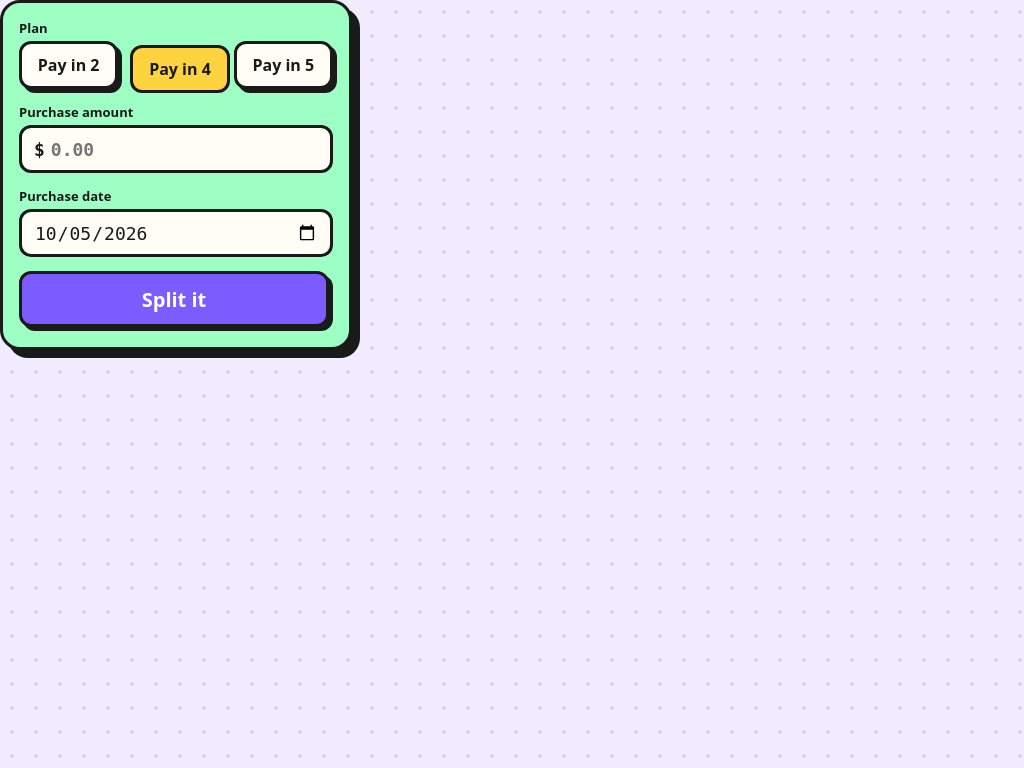
Test: PaymentPlanner › asks the backend for the plan and shows every installment
Type "99.99" into the field labelled "Purchase amount".
click(187, 149); type("99.99")  # box x1=45 y1=138 x2=330 y2=160
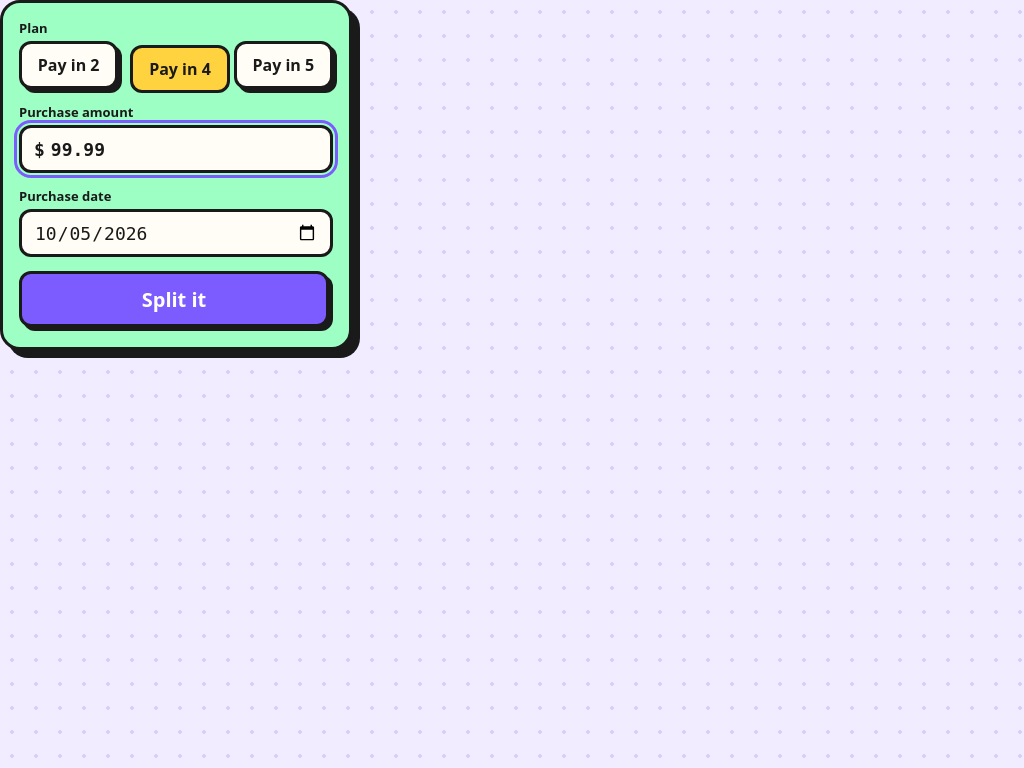
Click the button "Split it".
click(174, 299)  # box x1=19 y1=271 x2=329 y2=327
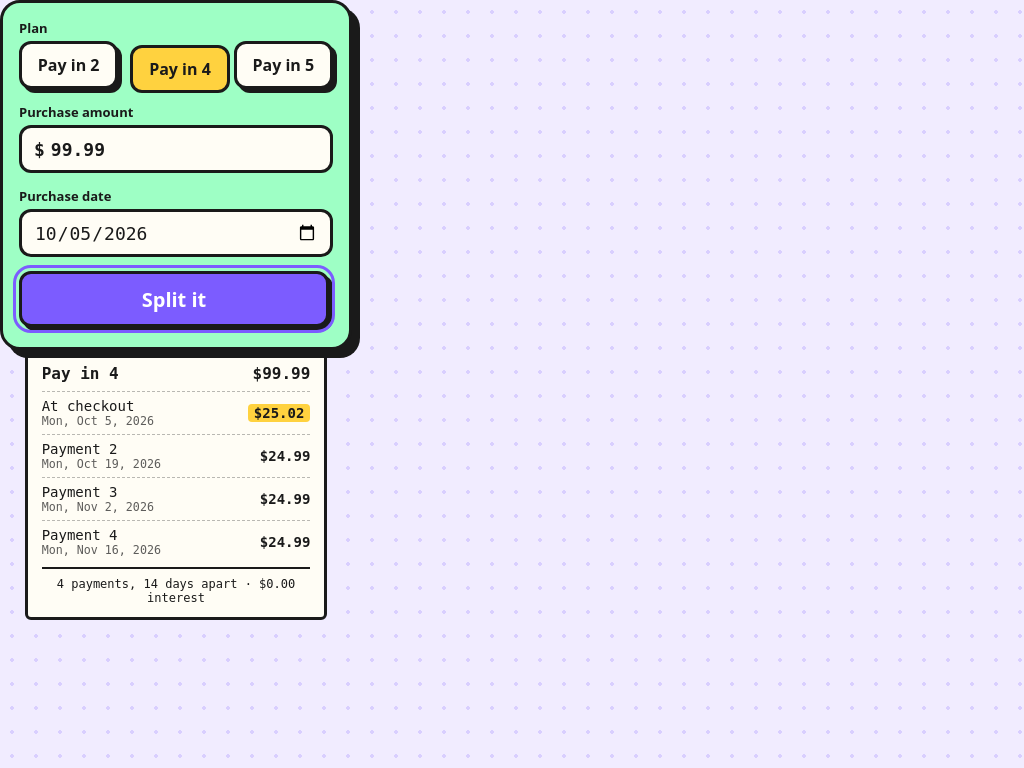
Check: the list items read "At checkoutMon, Oct 5, 2026$25.02", "Payment 2Mon, Oct 19, 2026$24.99", "Payment 3Mon, Nov 2, 2026$24.99", "Payment 4Mon, Nov 16, 2026$24.99", in this order, box x1=42 y1=391 x2=310 y2=434; x1=42 y1=434 x2=310 y2=477; x1=42 y1=477 x2=310 y2=520; x1=42 y1=520 x2=310 y2=563
Check: the element named "Payment schedule" shows "Pay in 4 $99.99", box x1=25 y1=347 x2=327 y2=620
Check: the element named "Payment schedule" shows "4 payments, 14 days apart · $0.00 interest", box x1=25 y1=347 x2=327 y2=620
